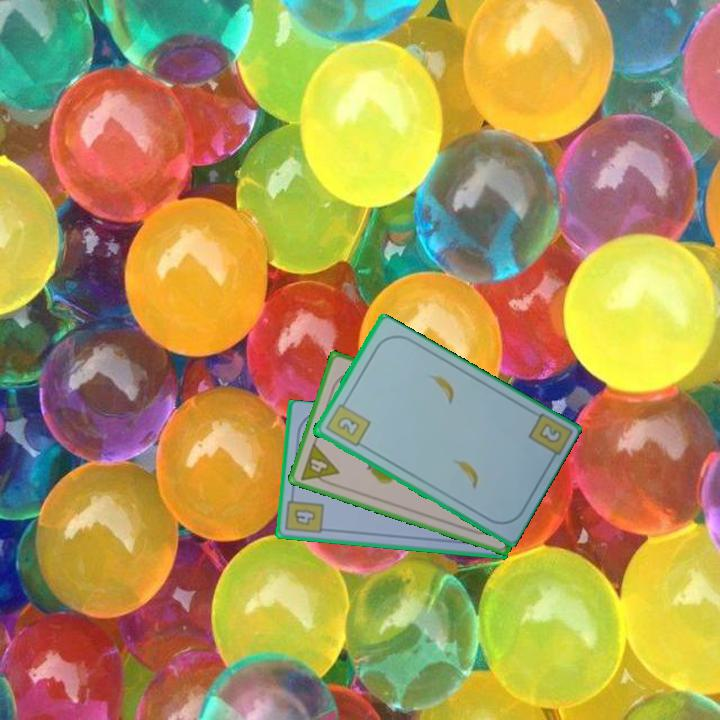2b: (321, 396, 373, 450), (535, 420, 564, 446)
4b: (282, 490, 326, 537)
4p: (297, 439, 342, 489)
